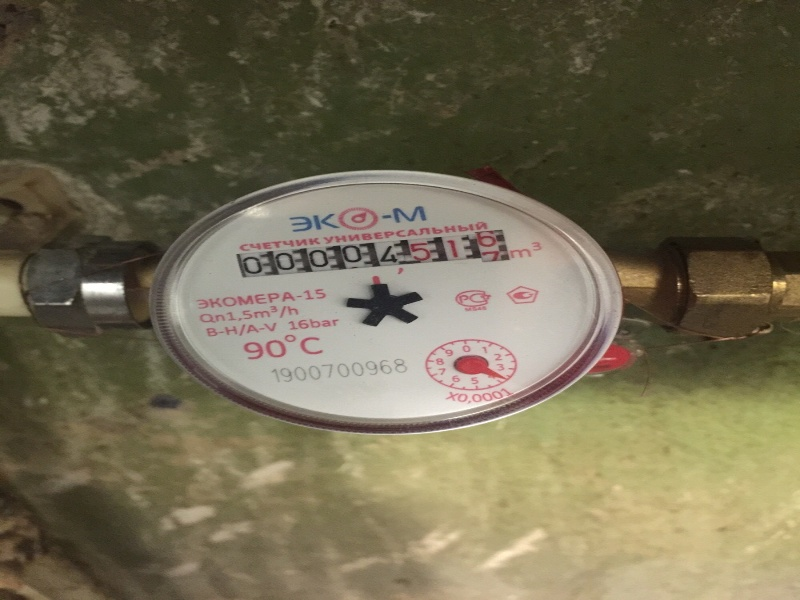meter: (215, 236, 513, 287)
